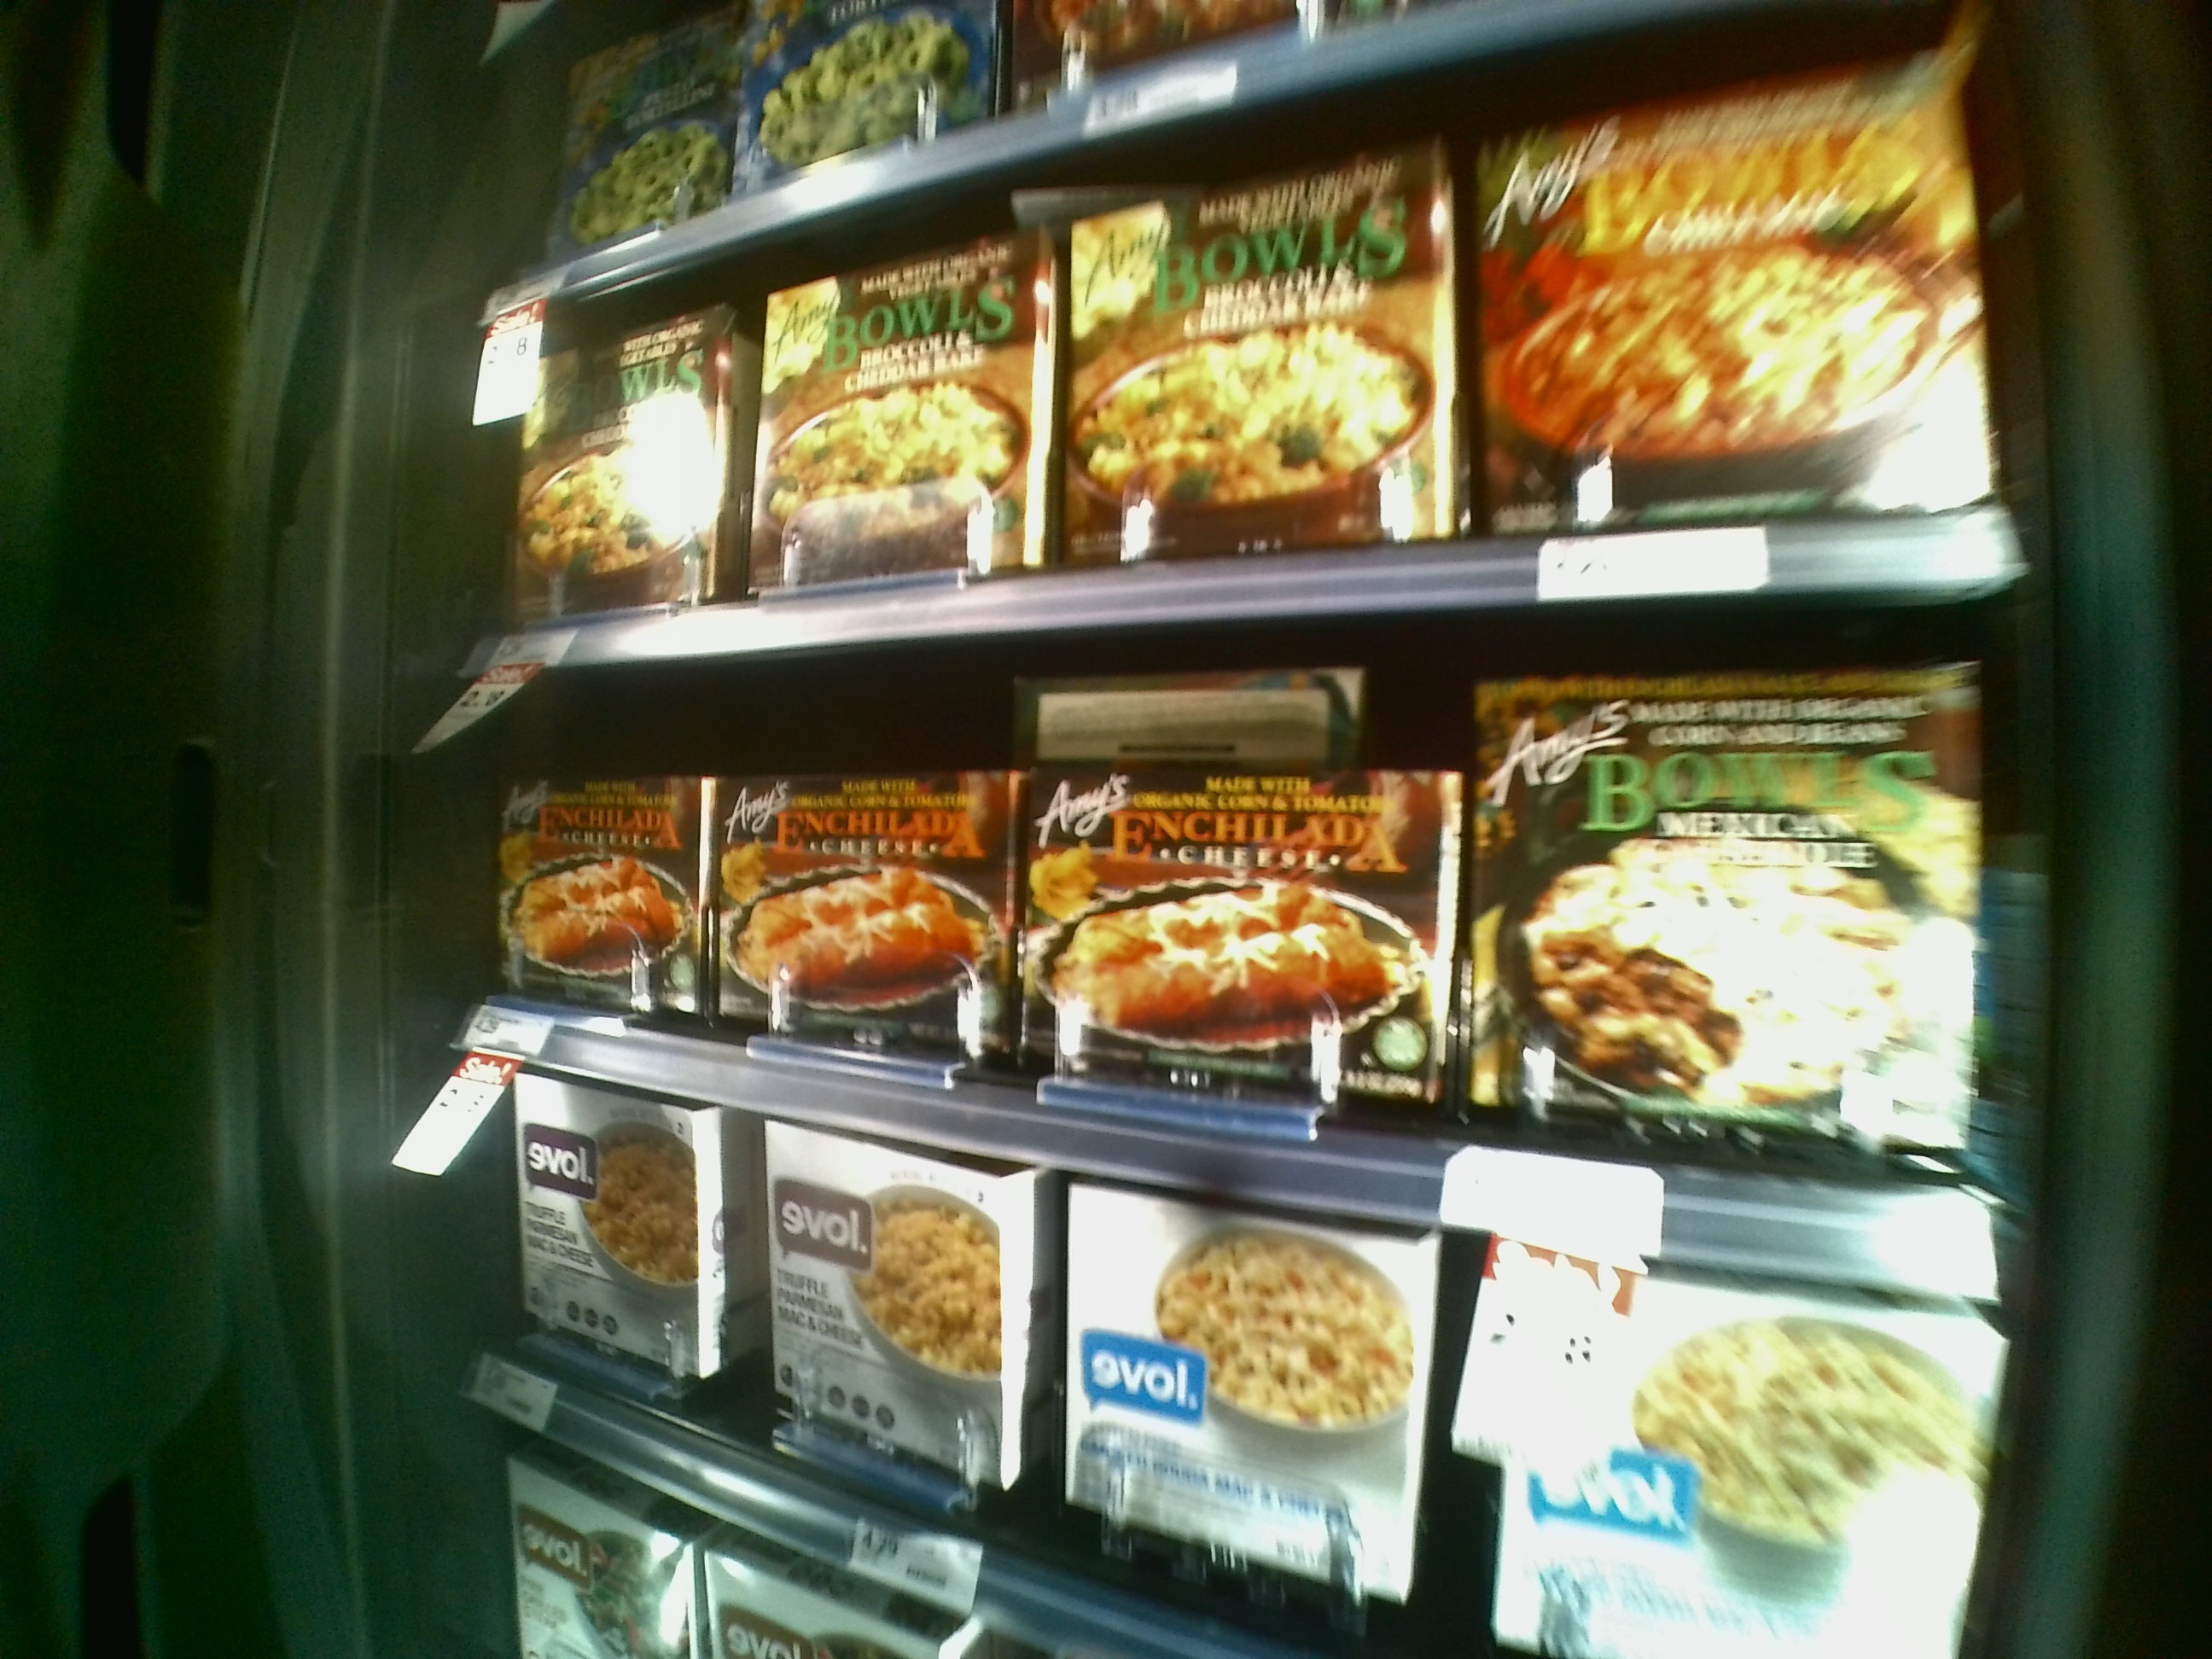shelf: (479, 612, 2034, 1114), (495, 124, 2054, 615), (470, 1087, 2040, 1570)
